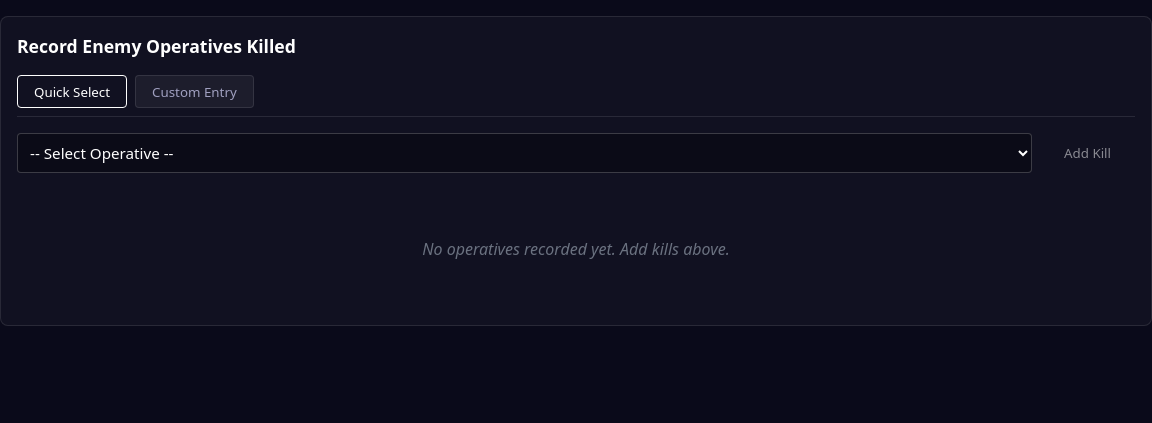
Test: OperativeKillRecorder › custom entry mode › should show live wound value calculation
This screenshot has width=1152, height=423.
Note: Switch to custom mode
Click the button "Custom Entry" at {"x": 194, "y": 92}, box x1=135 y1=75 x2=254 y2=108
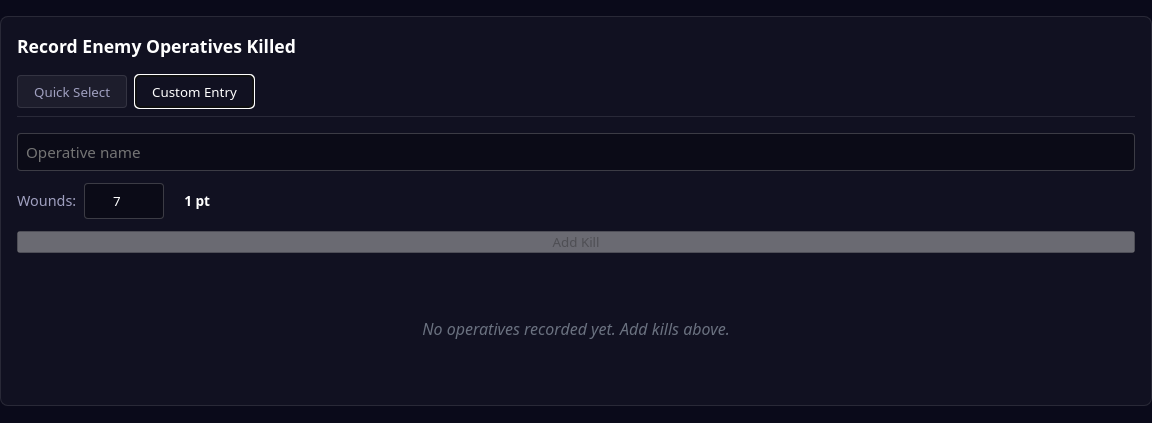
Note: Test 5 wounds (0 points)
Replace the text in the number field labelled "Wounds:" with "5" at {"x": 124, "y": 201}, box x1=84 y1=183 x2=164 y2=219
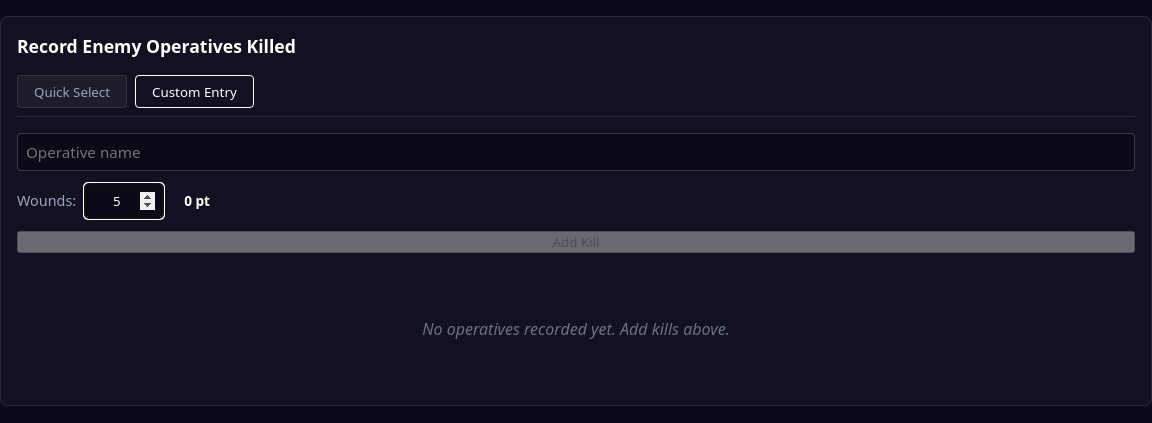
Result: the text "0 pt" is shown at x1=184 y1=191 x2=210 y2=210
Note: Test 7 wounds (1 point)
Replace the text in the number field labelled "Wounds:" with "7" at {"x": 124, "y": 201}, box x1=84 y1=183 x2=164 y2=219
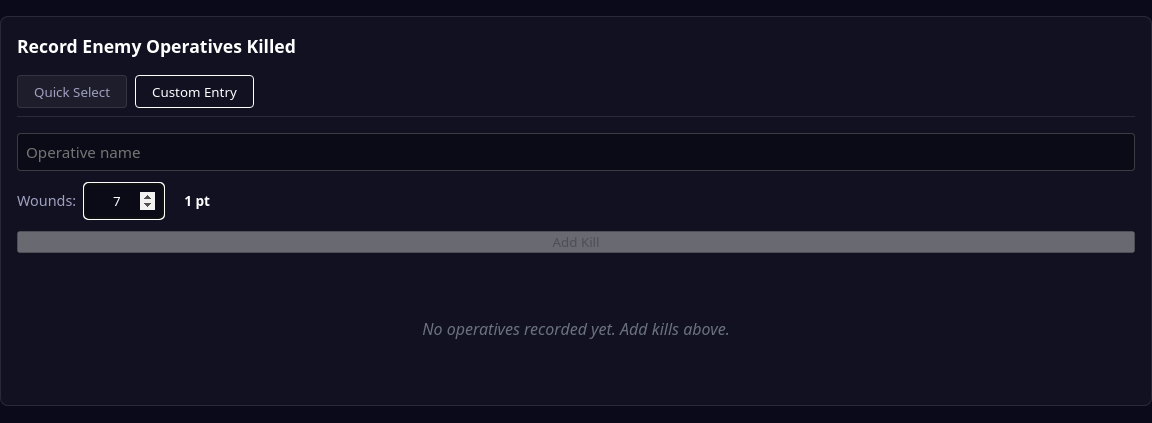
Result: the text "1 pt" is shown at x1=184 y1=191 x2=210 y2=210
Note: Test 12 wounds (2 points)
Replace the text in the number field labelled "Wounds:" with "12" at {"x": 124, "y": 201}, box x1=84 y1=183 x2=164 y2=219
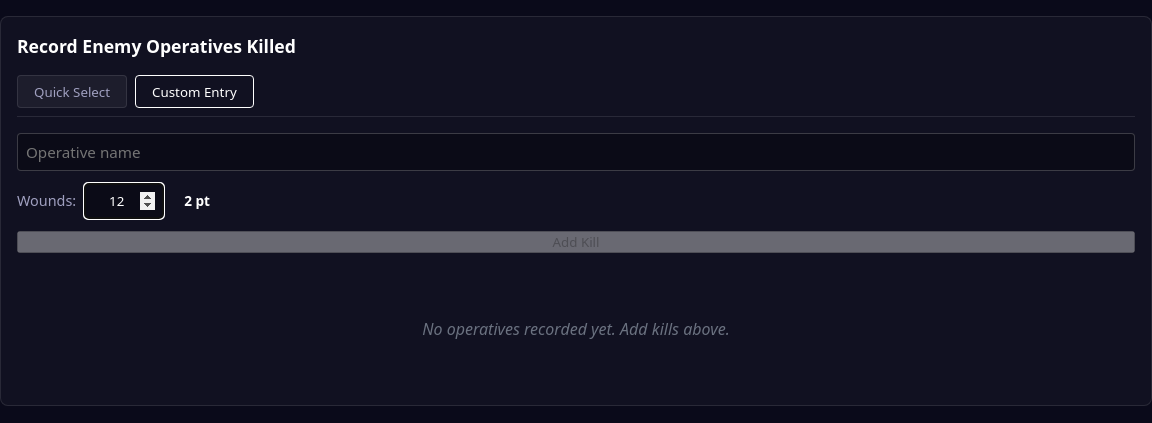
Result: the text "2 pt" is shown at x1=184 y1=191 x2=210 y2=210
